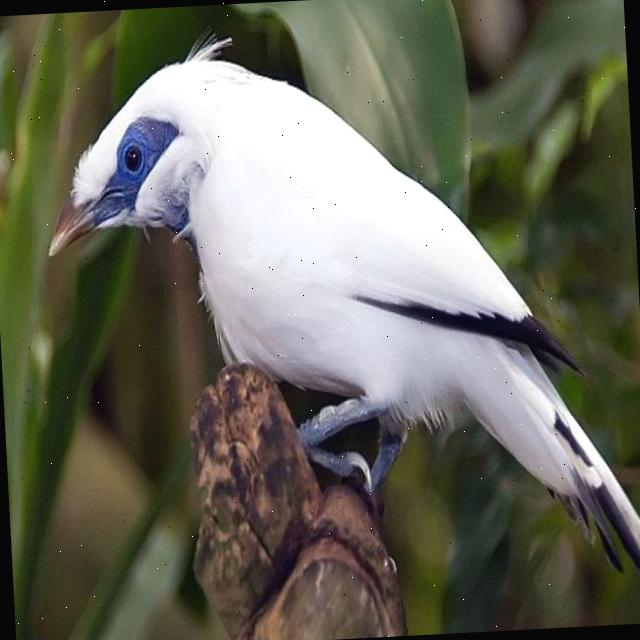Jalak Bali: (18, 15, 640, 612)
